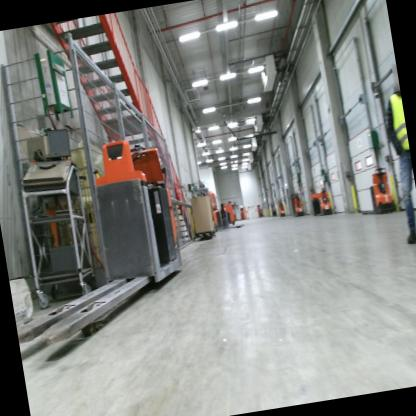pallet_truck: (0, 119, 198, 356), (351, 159, 397, 219), (205, 183, 244, 233), (305, 178, 335, 218), (219, 199, 238, 227), (287, 188, 305, 217), (275, 198, 286, 218)
